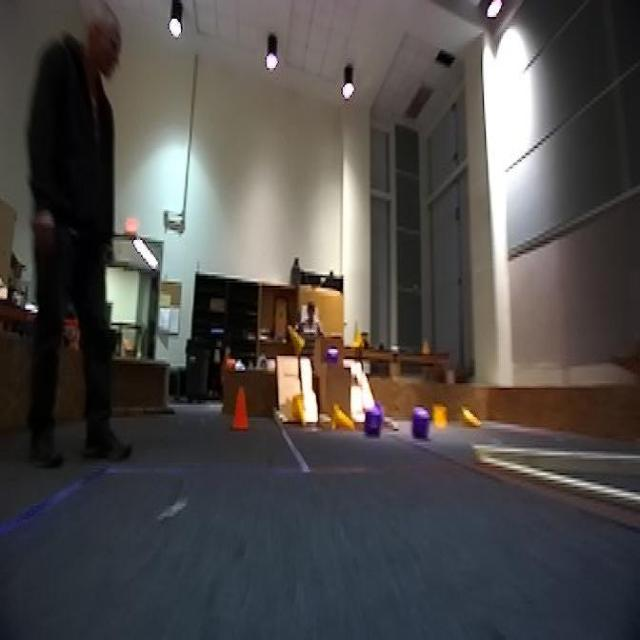frc_cone: (456, 404, 485, 431), (286, 324, 306, 359), (348, 320, 364, 356), (290, 393, 306, 429), (334, 405, 356, 431), (432, 402, 448, 427)
frc_cube: (366, 405, 384, 439), (410, 409, 430, 439), (325, 347, 341, 364)
